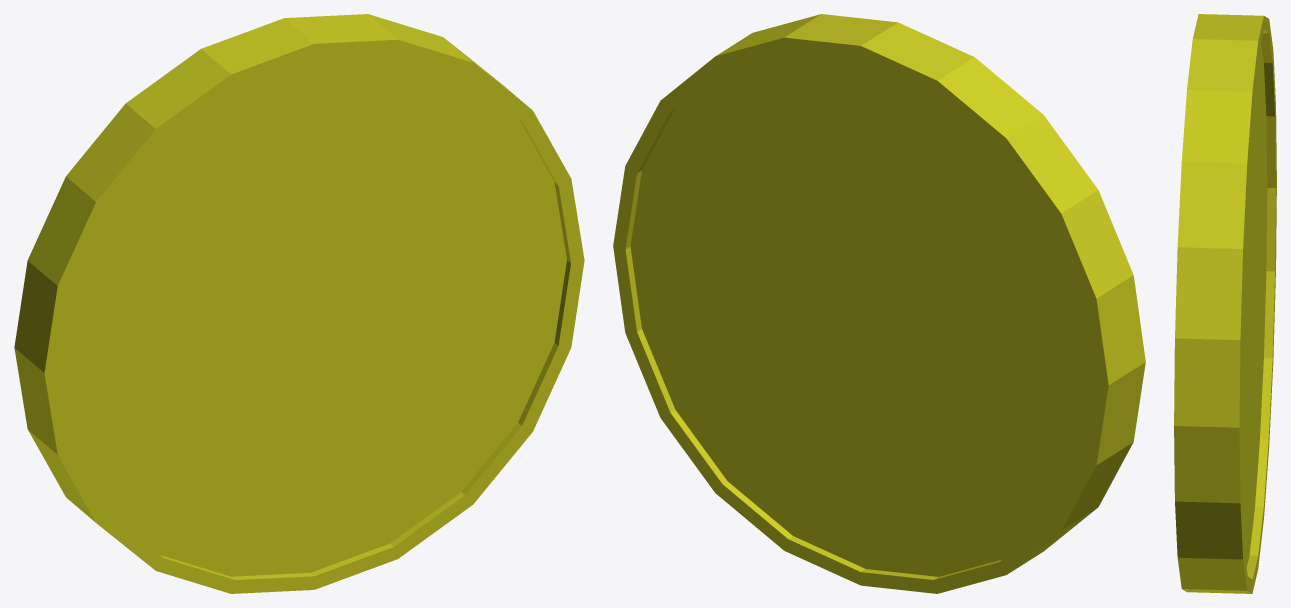
File: Low Poly Coin_000080.obj
3 renders of one model, left to right at view 1: azimuth 30°, elevation 25°; view 2: azimuth 150°, elevation 25°; view 3: azimuth 270°, elevation 25°, orthographic. The views are drawn at different scales.
Parts seen in each view (by area): view 1: Cylinder; view 2: Cylinder; view 3: Cylinder.
Boxes of the visible parts, x1,y1,x2,y2 form: Cylinder: [14, 14, 584, 593]; Cylinder: [613, 14, 1145, 593]; Cylinder: [1174, 14, 1276, 593].
Size of the model in its own units: 2.01 by 2 by 0.3533.
